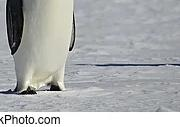Emperor Penguin: (0, 0, 104, 105)
